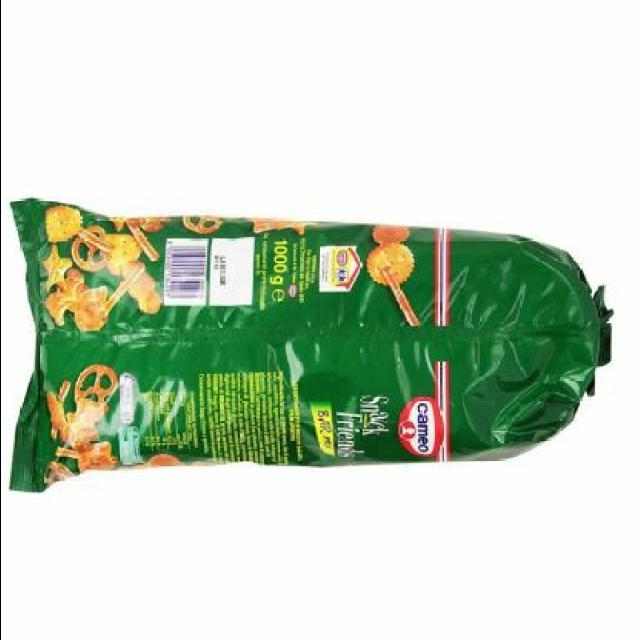Salatini: (4, 197, 608, 506)
